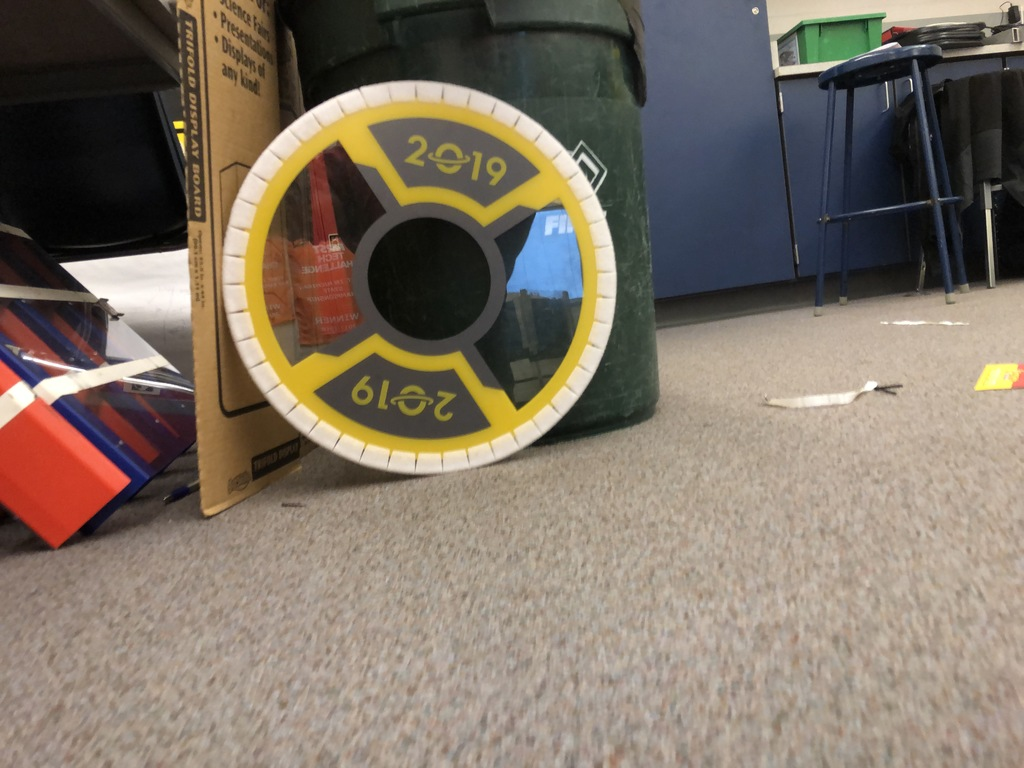hatch_panel: (213, 68, 624, 499)
